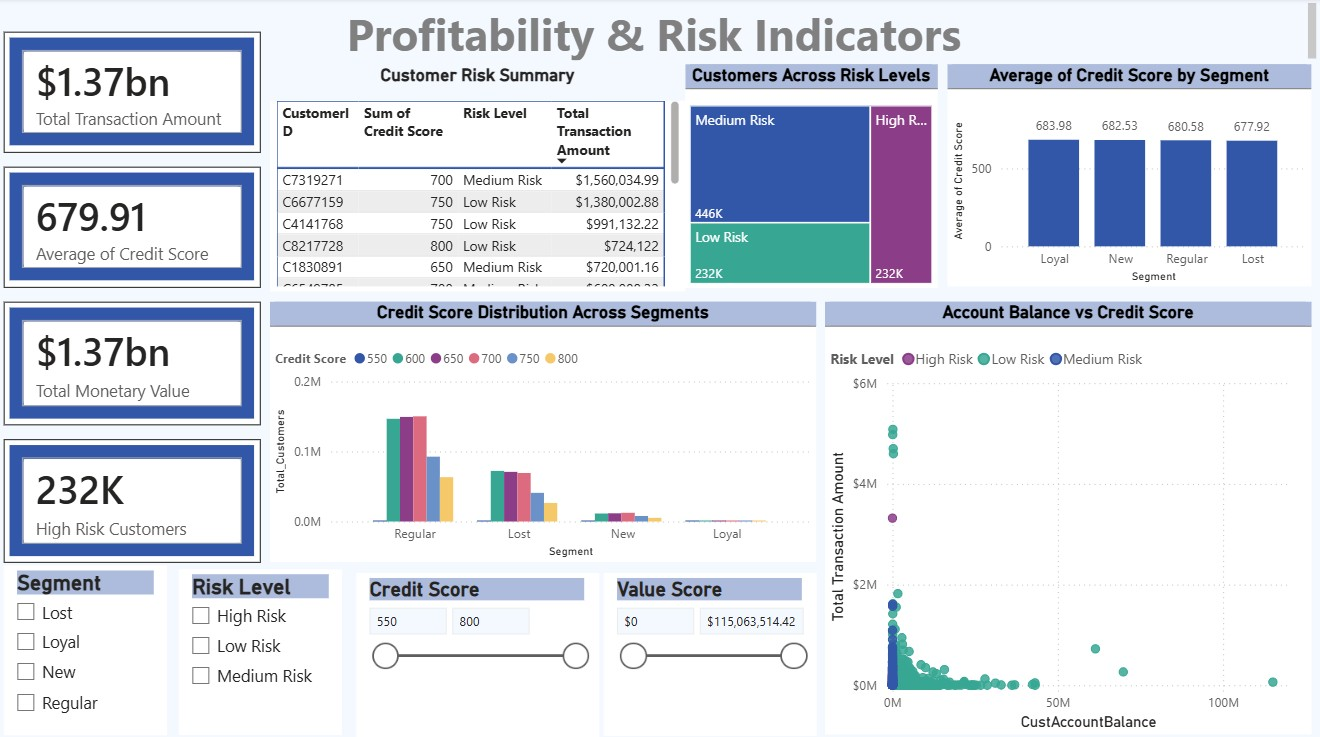

Layout of this report page (visuals, bound fields, positions):
{"tool":"powerbi","page":{"name":"Profitability & Risk Indicators","canvas":[1280,720],"ordinal":3},"visuals":[{"type":"textbox","box":[0,0,1280,65.1],"z":0},{"type":"cardVisual","fields":{"Data":["bank_transactions.Total Transaction Amount"]},"box":[8.2,32.9,248.4,116.6],"z":1000},{"type":"cardVisual","fields":{"Data":["Avg(bank_transactions.Credit Score)"]},"box":[8.2,163.3,248.4,116.6],"z":2000},{"type":"cardVisual","fields":{"Data":["bank_transactions.High Risk Customers"]},"box":[8.2,425.4,248.4,119.4],"z":3000},{"type":"cardVisual","fields":{"Data":["Customer_Summary.Total Monetary Value"]},"box":[8.2,293.7,248.4,119.4],"z":4000},{"type":"clusteredColumnChart","fields":{"Y":["Avg(bank_transactions.Credit Score)"],"Category":["Customer_Summary.Segment"]},"box":[919.3,63.9,351.1,214.7],"z":5000},{"type":"treemap","title":"Customers Across Risk Levels","fields":{"Group":["bank_transactions.Risk Level"],"Values":["bank_transactions.Total_Customers"]},"box":[666,63.9,243.7,216],"z":6000},{"type":"clusteredColumnChart","title":"Credit Score Distribution Across Segments","fields":{"Category":["Customer_Summary.Segment"],"Series":["bank_transactions.Credit Score"],"Y":["bank_transactions.Total_Customers"]},"box":[264.8,293.7,526.9,251.1],"z":7000},{"type":"scatterChart","title":"Account Balance vs Credit Score","fields":{"X":["bank_transactions.CustAccountBalance"],"Series":["bank_transactions.Risk Level"],"Y":["bank_transactions.Total Transaction Amount"]},"box":[801.1,293.2,469.3,417.4],"z":8000},{"type":"tableEx","title":"Customer Risk Summary","fields":{"Values":["bank_transactions.CustomerID","Sum(bank_transactions.Credit Score)","bank_transactions.Risk Level","bank_transactions.Total Transaction Amount"]},"box":[264.8,64.5,400.5,219.6],"z":10000},{"type":"slicer","fields":{"Values":["bank_transactions.Credit Score"]},"box":[348.5,554.4,233.3,160.5],"z":11000},{"type":"slicer","fields":{"Values":["bank_transactions.Risk Level"]},"box":[177,551.6,157.8,160.5],"z":12000},{"type":"slicer","fields":{"Values":["bank_transactions.Value Score"]},"box":[587.3,554.4,204.5,157.8],"z":13000},{"type":"slicer","fields":{"Values":["Customer_Summary.Segment"]},"box":[8.2,547.5,157.8,164.7],"z":14000}]}

Visuals, with their boxes in screenshot pixels (x1, y1, x2, y2), scaled from the page's 1280x720 canvas onto the 1320x737 screenshot:
textbox: [0, 0, 1319, 67]
cardVisual - bank_transactions.Total Transaction Amount: [8, 34, 265, 153]
cardVisual - Avg(bank_transactions.Credit Score): [8, 167, 265, 287]
cardVisual - bank_transactions.High Risk Customers: [8, 435, 265, 558]
cardVisual - Customer_Summary.Total Monetary Value: [8, 301, 265, 423]
clusteredColumnChart - Avg(bank_transactions.Credit Score) x Customer_Summary.Segment: [948, 65, 1310, 285]
"Customers Across Risk Levels" treemap: [687, 65, 938, 287]
"Credit Score Distribution Across Segments" clusteredColumnChart: [273, 301, 816, 558]
"Account Balance vs Credit Score" scatterChart: [826, 300, 1310, 727]
"Customer Risk Summary" tableEx: [273, 66, 686, 291]
slicer - bank_transactions.Credit Score: [359, 567, 600, 732]
slicer - bank_transactions.Risk Level: [183, 565, 345, 729]
slicer - bank_transactions.Value Score: [606, 567, 817, 729]
slicer - Customer_Summary.Segment: [8, 560, 171, 729]
